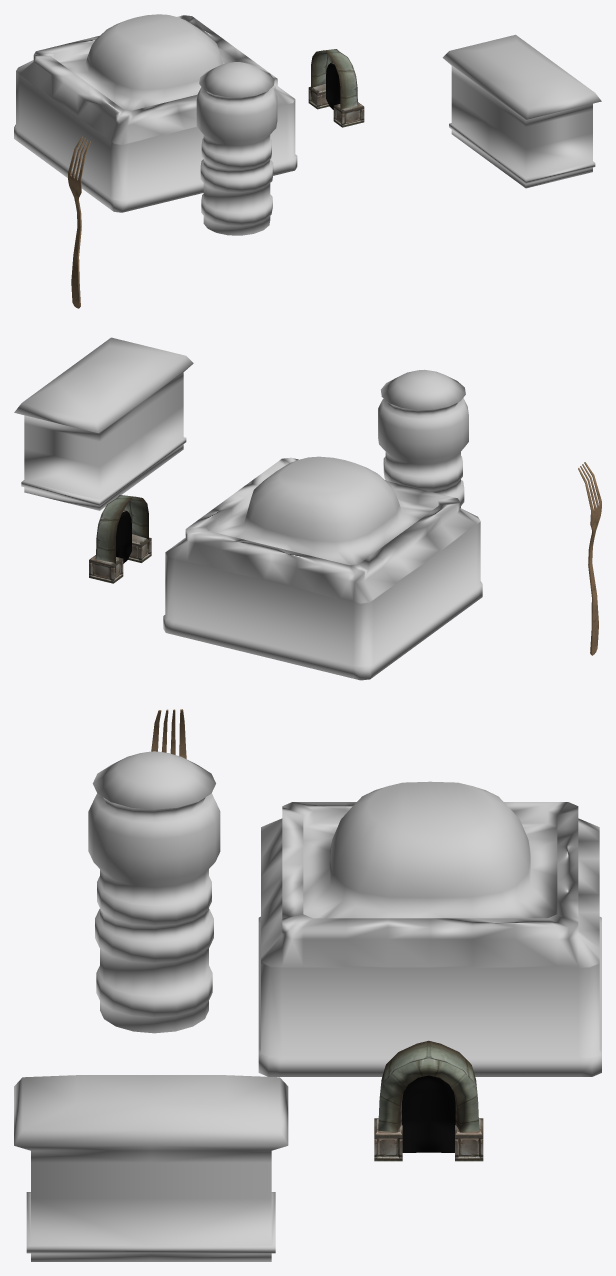
Rendered from PosateEnv1.fbx.
The picture shows the model from 3 angles, top to bottom: view 1: azimuth 30°, elevation 25°; view 2: azimuth 150°, elevation 25°; view 3: azimuth 270°, elevation 25°; orthographic projection. The views are drawn at different scales.
Parts seen in each view (by area): view 1: Plane.001, Cube.007, Circle.009, Circle.008, Fork, Cube.003; view 2: Plane.001, Cube.007, Circle.009, Circle.008, Fork, Cube.003; view 3: Plane.001, Cube.007, Circle.009, Circle.008, Cube.003, Fork.
Part boxes in pixels (bbox=[...]): Plane.001: bbox=[14, 14, 297, 212]; Cube.007: bbox=[442, 34, 601, 188]; Circle.009: bbox=[196, 62, 277, 235]; Circle.008: bbox=[311, 49, 358, 117]; Fork: bbox=[68, 136, 90, 308]; Cube.003: bbox=[308, 83, 364, 127]; Plane.001: bbox=[163, 456, 482, 680]; Cube.007: bbox=[14, 337, 193, 510]; Circle.009: bbox=[378, 369, 468, 507]; Circle.008: bbox=[95, 495, 148, 572]; Fork: bbox=[578, 462, 601, 655]; Cube.003: bbox=[89, 534, 151, 583]; Plane.001: bbox=[258, 781, 601, 1076]; Cube.007: bbox=[14, 1075, 288, 1261]; Circle.009: bbox=[88, 751, 220, 1033]; Circle.008: bbox=[378, 1040, 479, 1152]; Cube.003: bbox=[374, 1118, 483, 1161]; Fork: bbox=[151, 709, 186, 758].
Size of the model in its own units: 3573 by 1467 by 2335.
